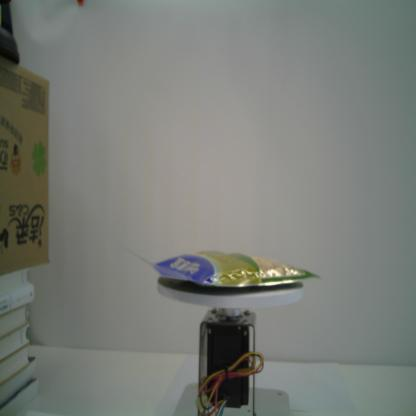Dried Fruit: (120, 246, 322, 289)
